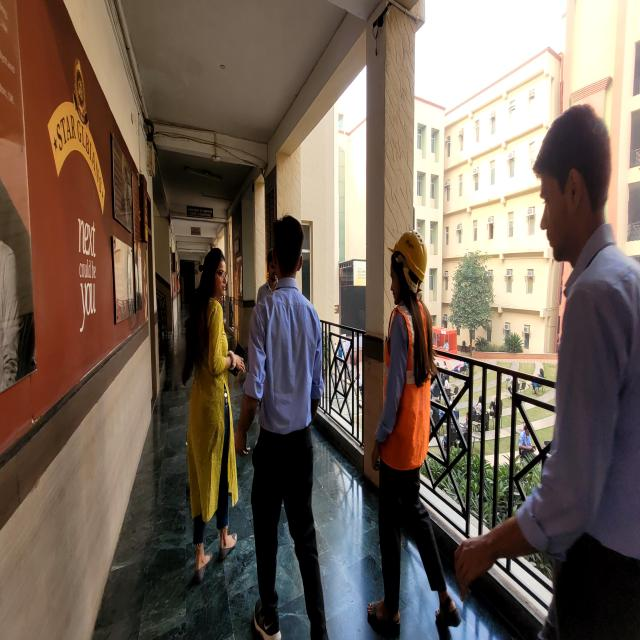safe: (374, 230, 459, 640)
unsafe: (495, 103, 622, 640), (250, 213, 326, 640), (187, 247, 242, 582)
